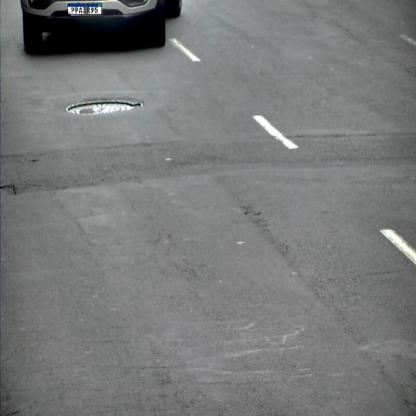PlacaM: (68, 4, 102, 14)
